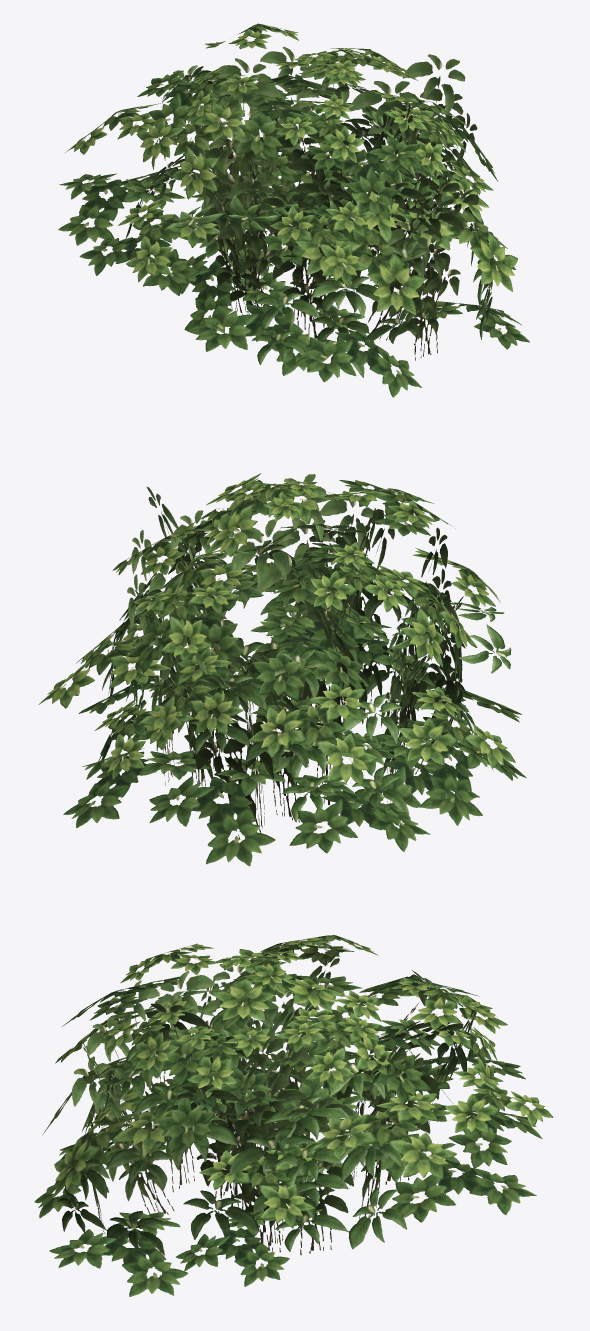
Rendered from wlf_cao06_w.FBX.
3 views of the same model, one above another, from view 1: azimuth 30°, elevation 25°; view 2: azimuth 150°, elevation 25°; view 3: azimuth 270°, elevation 25° (orthographic). The views are drawn at different scales.
Parts seen in each view (by area): view 1: wlf_cao06_w; view 2: wlf_cao06_w; view 3: wlf_cao06_w.
Part boxes in pixels (x1=…): wlf_cao06_w: x1=58, y1=23, x2=529, y2=397; wlf_cao06_w: x1=38, y1=473, x2=526, y2=866; wlf_cao06_w: x1=34, y1=935, x2=553, y2=1296.
Bounding box in the file's own units: 2420 × 1592 × 2816.
